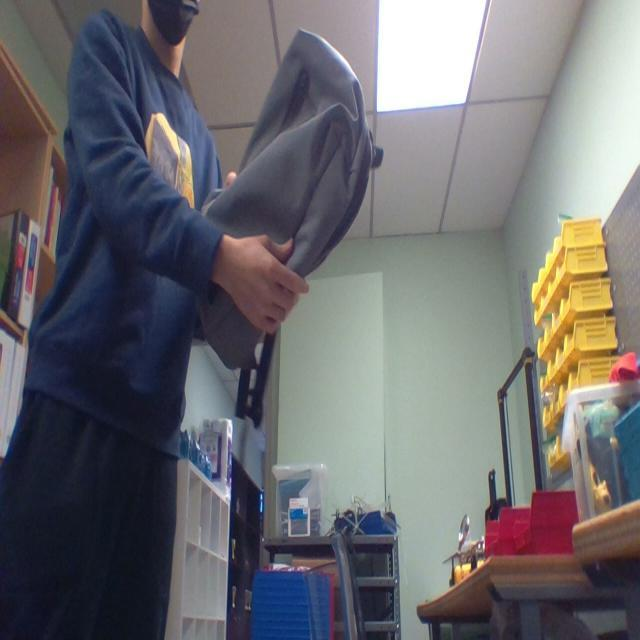Backpacks: (194, 28, 382, 374)
